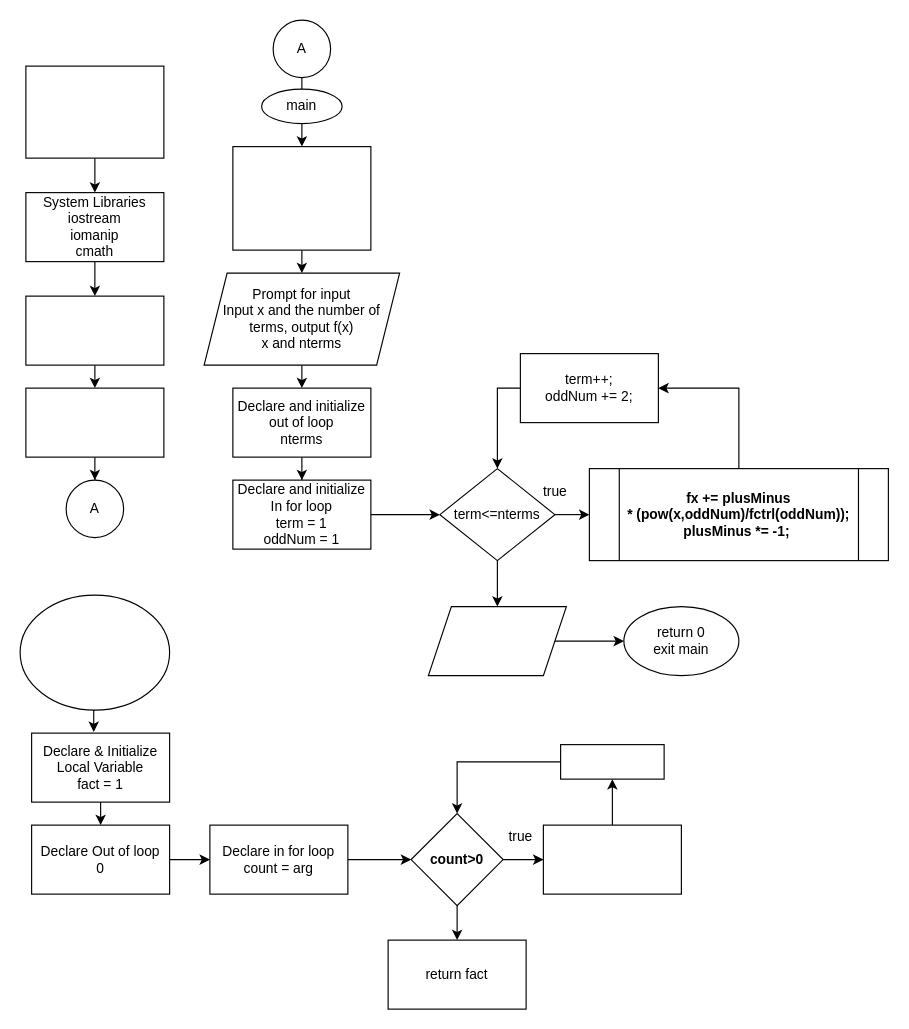
Image size: 909x1029. Some labels were removed from this diagram. Each missing label, with the centre of its shape:
Author: Aamir Created on Jan 28,2021 - 4:00 PM Purpose: Infinite Series: pixel 94 111
count--: pixel 611 761
Declare/Initilialize variables x fx = 0.0 plusMinus = 1 nterms: pixel 301 197
display fx: pixel 496 640
fact *= count: pixel 611 859
Function Prototypes fctrl(int);: pixel 94 422
int fctrl(int arg): pixel 94 652
User Libraries None: pixel 94 330
